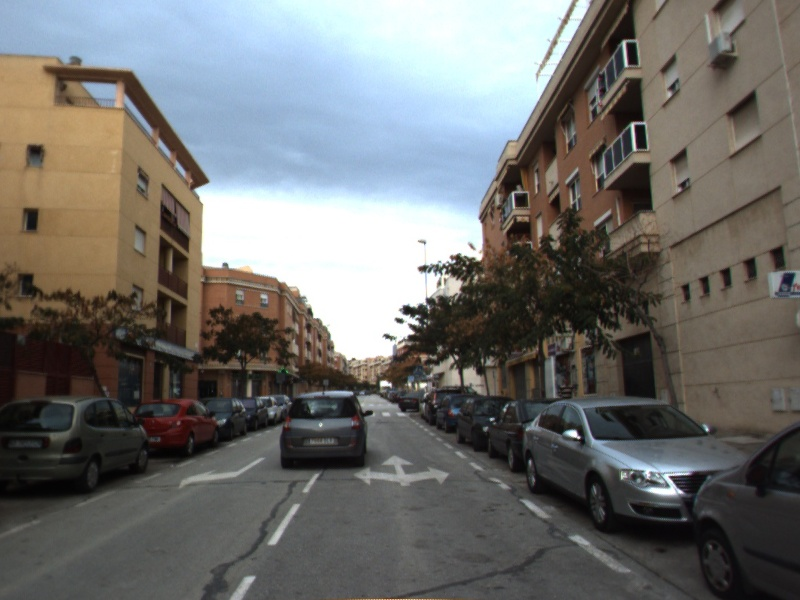STRAIGHT_LEFT_RIGHT: (351, 453, 452, 488)
